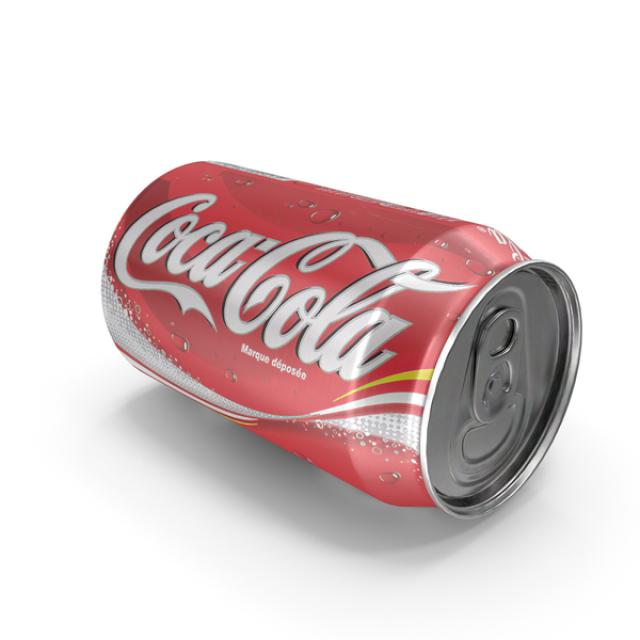cocacola: (91, 123, 584, 527)
